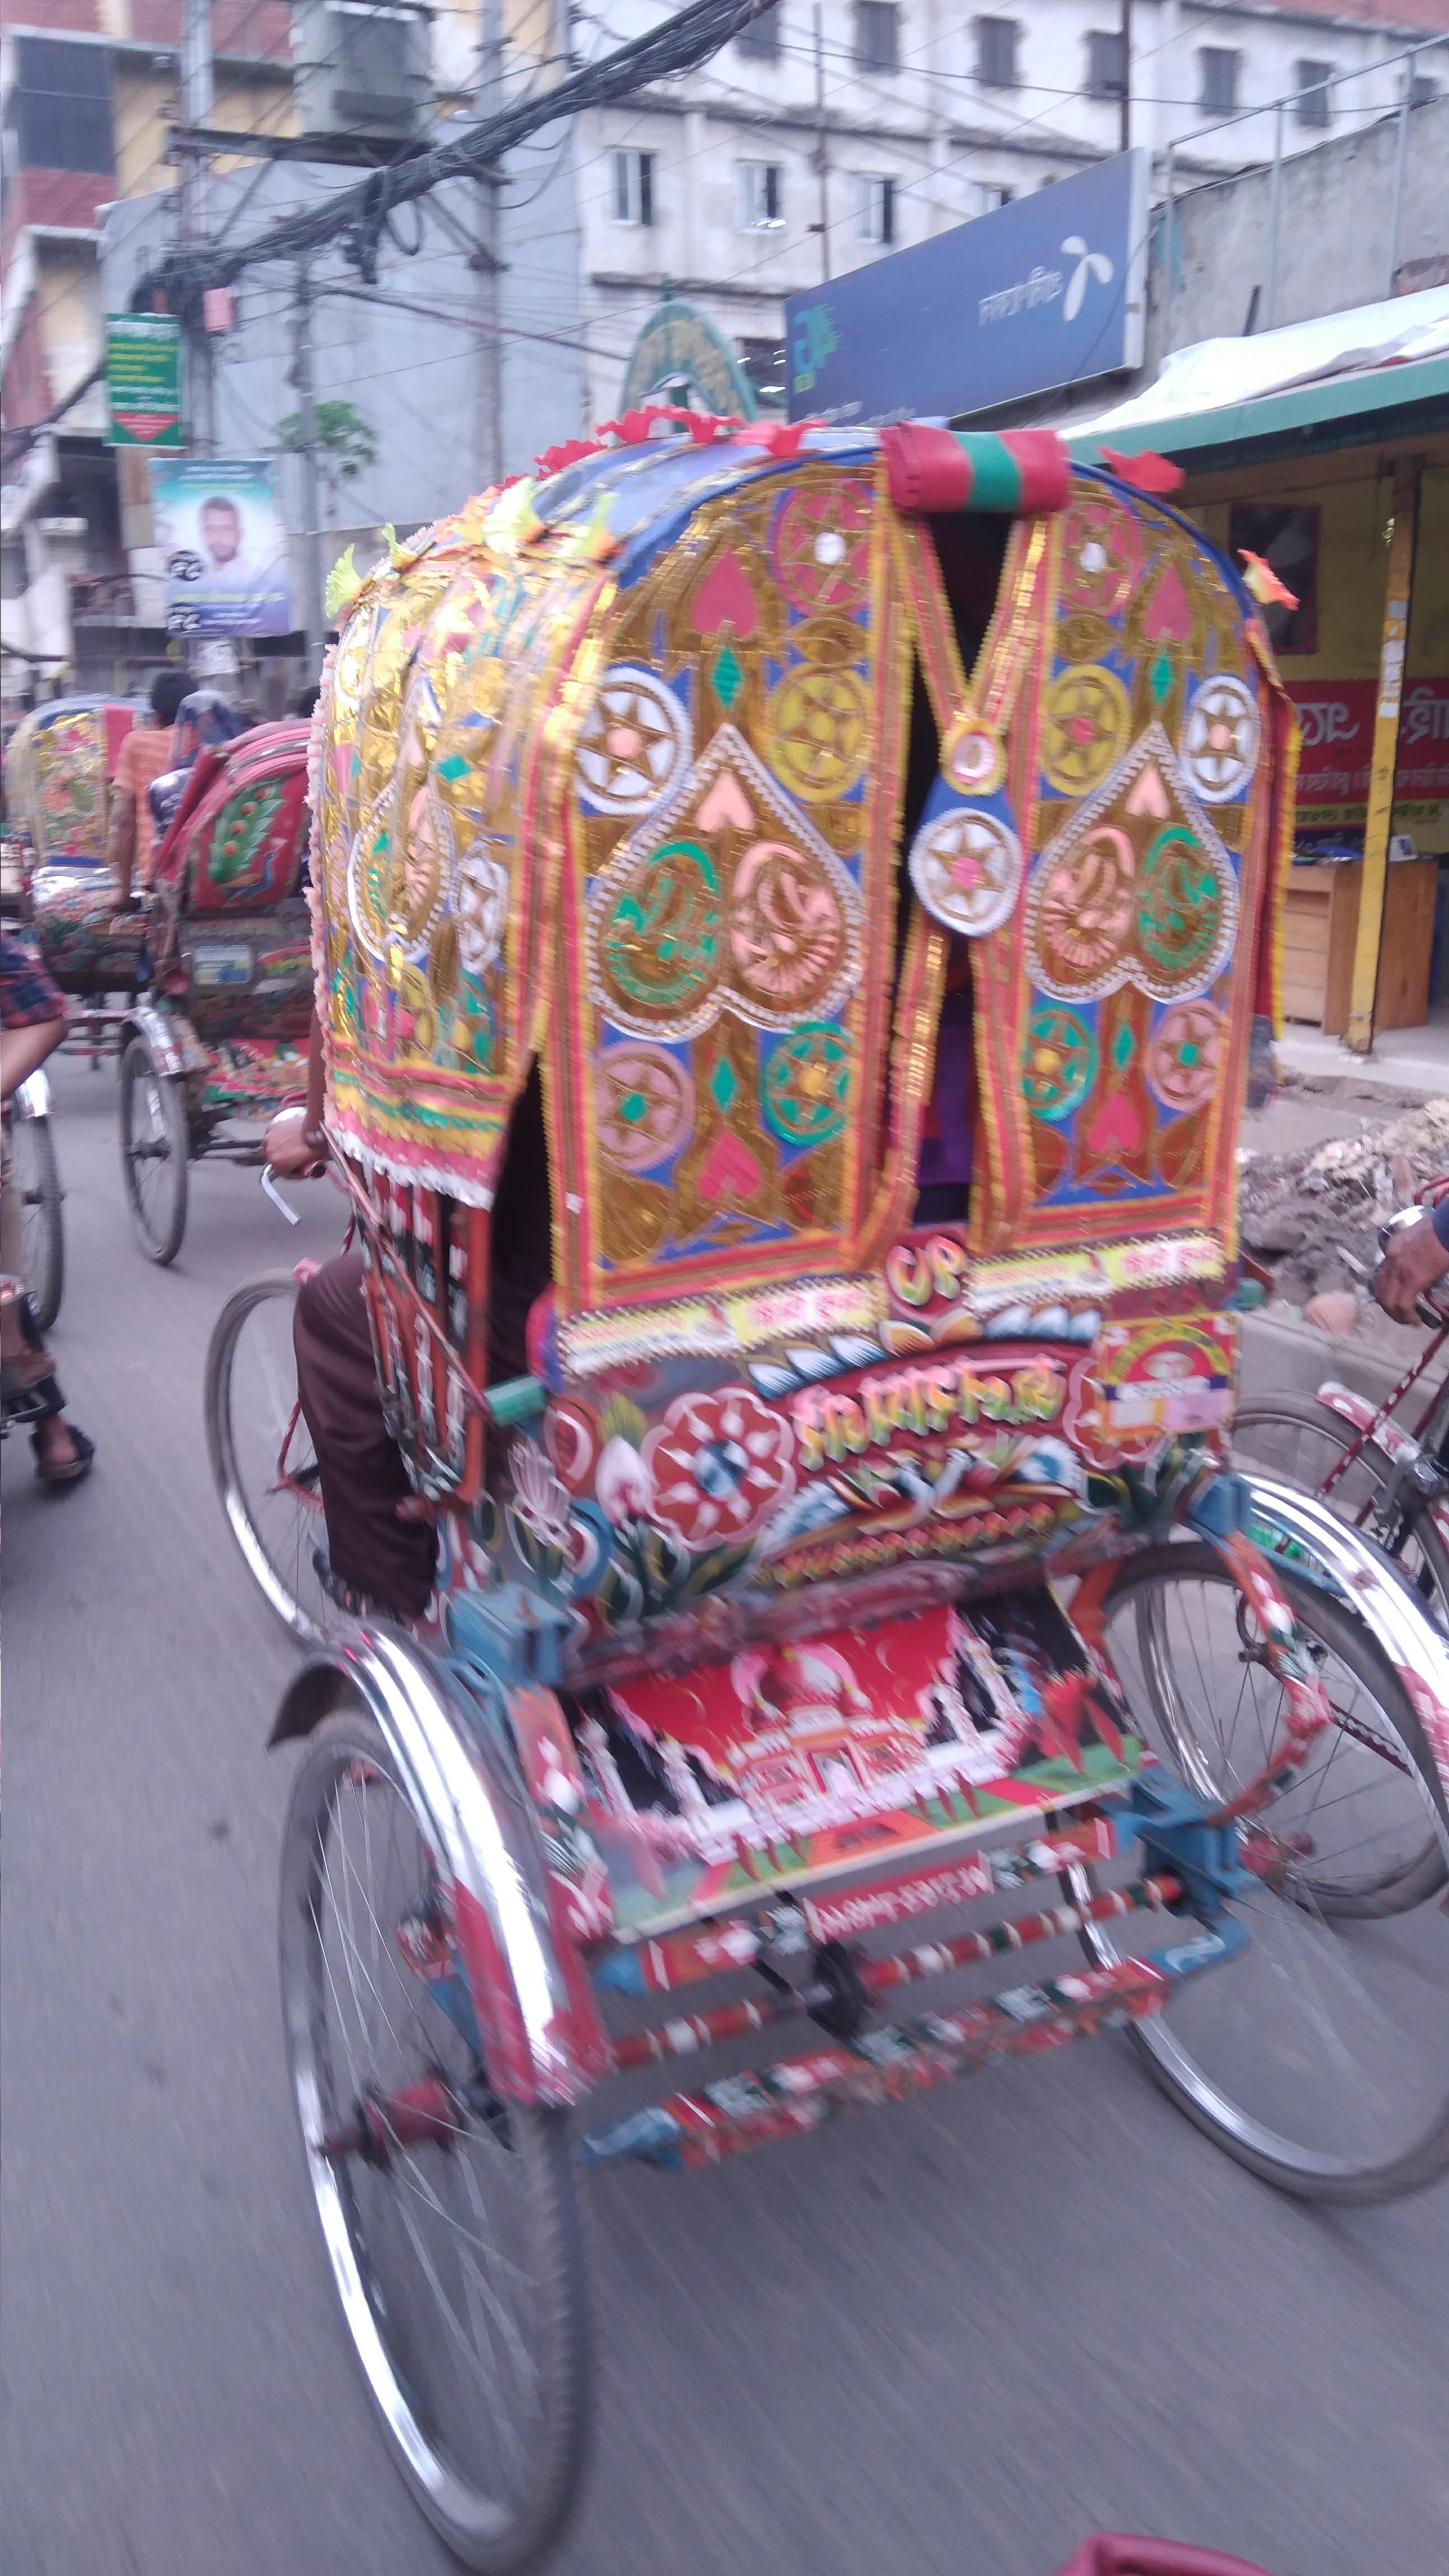Rickshaw: (253, 333, 1428, 2450), (140, 706, 363, 1228), (12, 633, 184, 1030)
